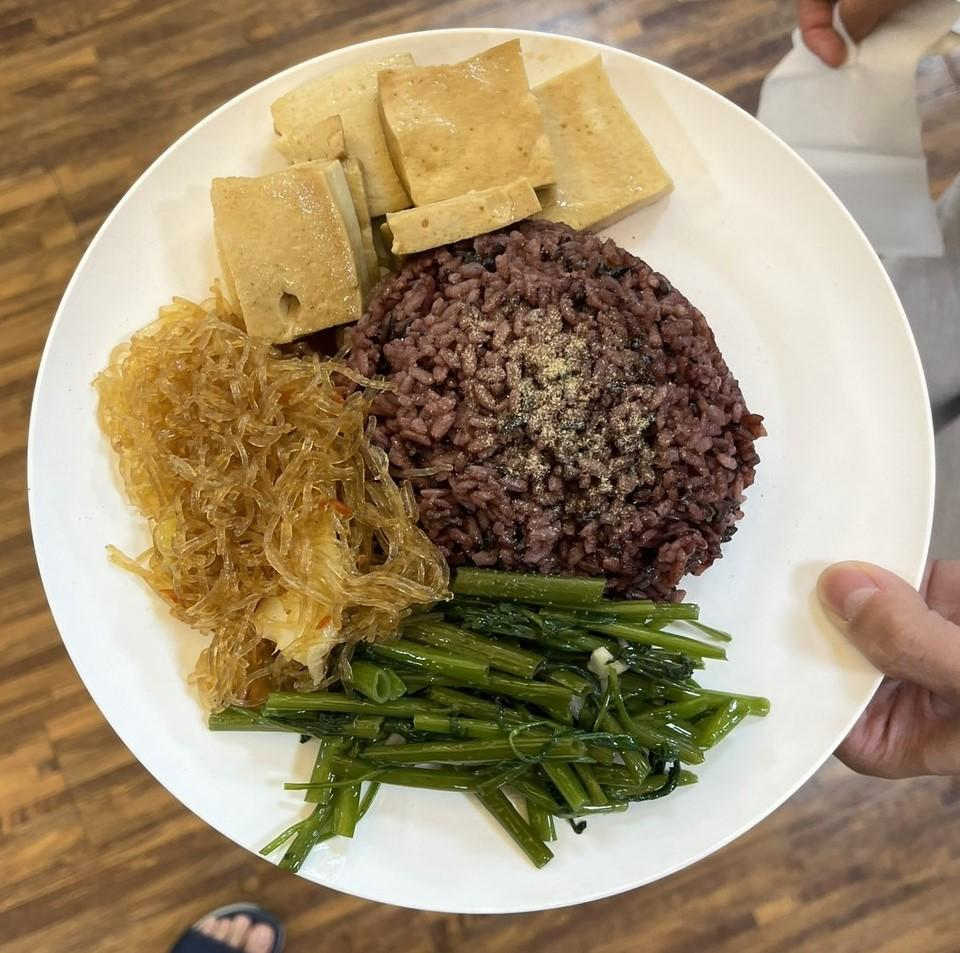big fried chicken leg: (18, 18, 948, 942)
braised fish: (354, 236, 756, 593)
braised fish fillet: (211, 35, 676, 337), (84, 294, 417, 705), (275, 576, 732, 822)
